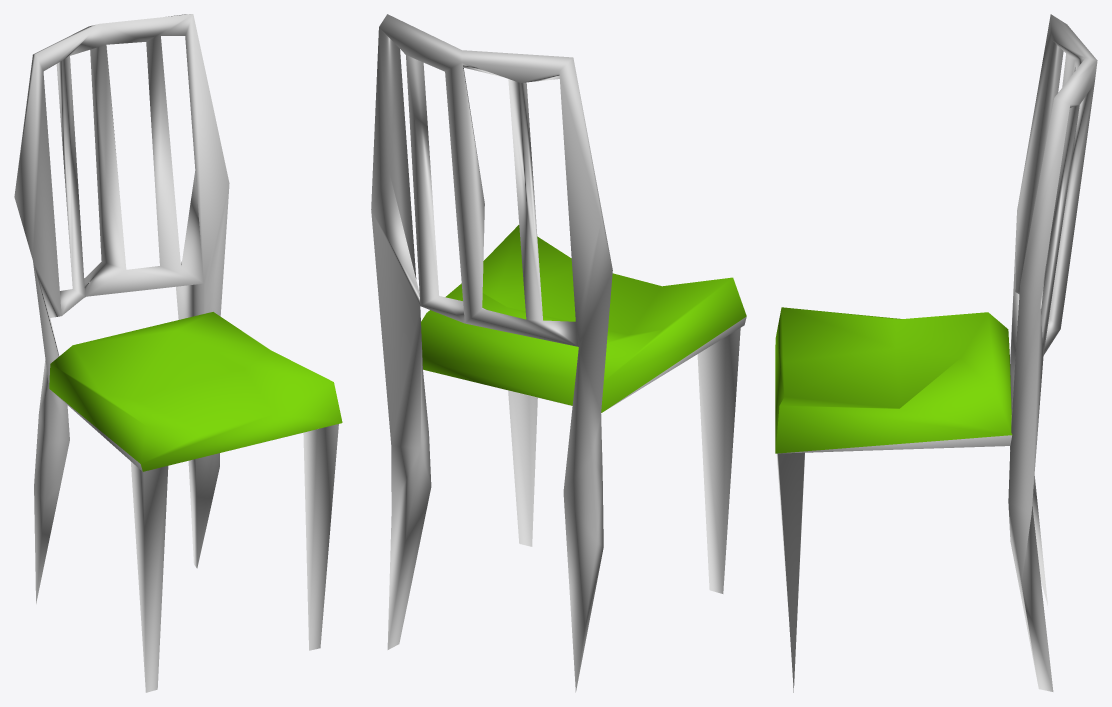
Rendered from Cushioned Char 04_COLLIDER.fbx.
3 views of the same model, side by side, from view 1: azimuth 30°, elevation 25°; view 2: azimuth 150°, elevation 25°; view 3: azimuth 270°, elevation 25° (orthographic). The views are drawn at different scales.
Parts seen in each view (by area): view 1: Cushioned_chair_04_COLLIDER; view 2: Cushioned_chair_04_COLLIDER; view 3: Cushioned_chair_04_COLLIDER.
Boxes of the visible parts, x1=… form: Cushioned_chair_04_COLLIDER: x1=14, y1=14, x2=342, y2=692; Cushioned_chair_04_COLLIDER: x1=371, y1=14, x2=746, y2=692; Cushioned_chair_04_COLLIDER: x1=775, y1=14, x2=1097, y2=692.
Size of the model in its own units: 57.83 by 150 by 73.85.
